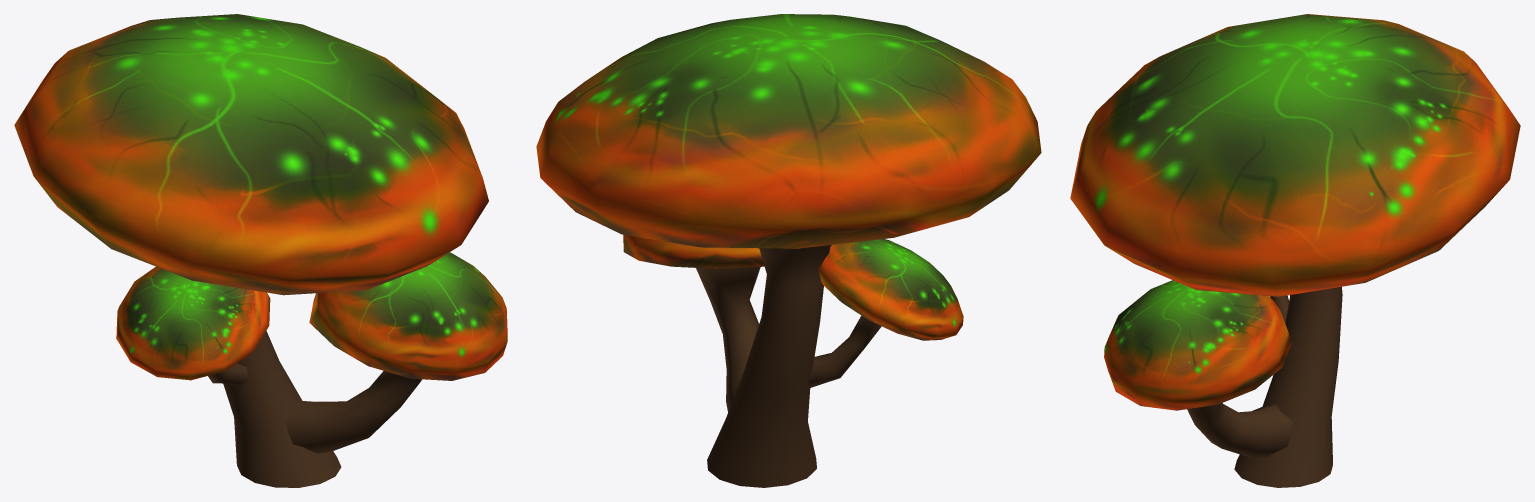
File: Shroom Bouncy rescaled.fbx
3 views of the same model, side by side, from view 1: azimuth 30°, elevation 25°; view 2: azimuth 150°, elevation 25°; view 3: azimuth 270°, elevation 25° (orthographic). The views are drawn at different scales.
Parts seen in each view (by area): view 1: polySurface5; view 2: polySurface5; view 3: polySurface5.
Boxes of the visible parts, x1,y1,x2,y2 form: polySurface5: (14, 14, 507, 487); polySurface5: (536, 14, 1041, 487); polySurface5: (1070, 14, 1520, 487).
Size of the model in its own units: 1.13 by 1.1 by 1.13.
